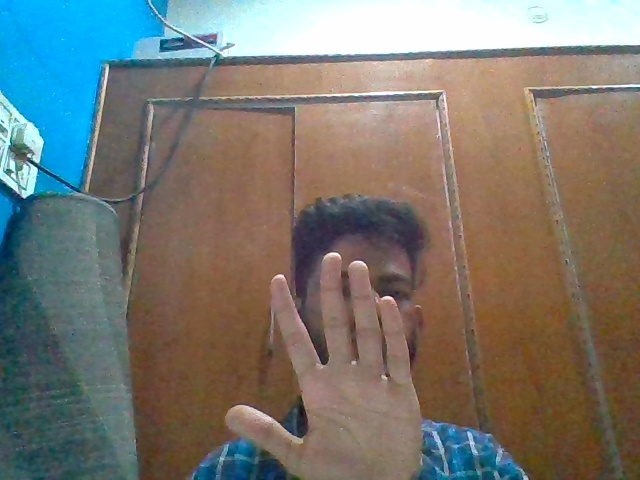hello: (223, 251, 435, 480)
